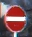No entry: (6, 6, 27, 32)
